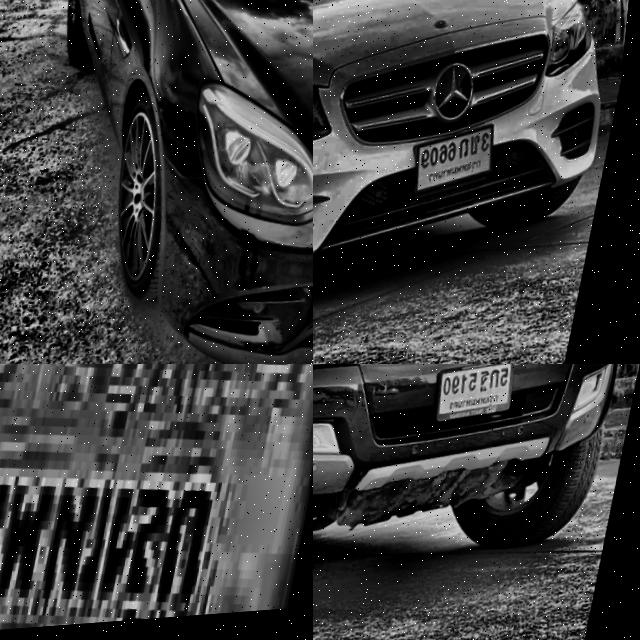license-plate: (0, 364, 313, 640), (413, 120, 509, 215), (435, 364, 528, 437)
